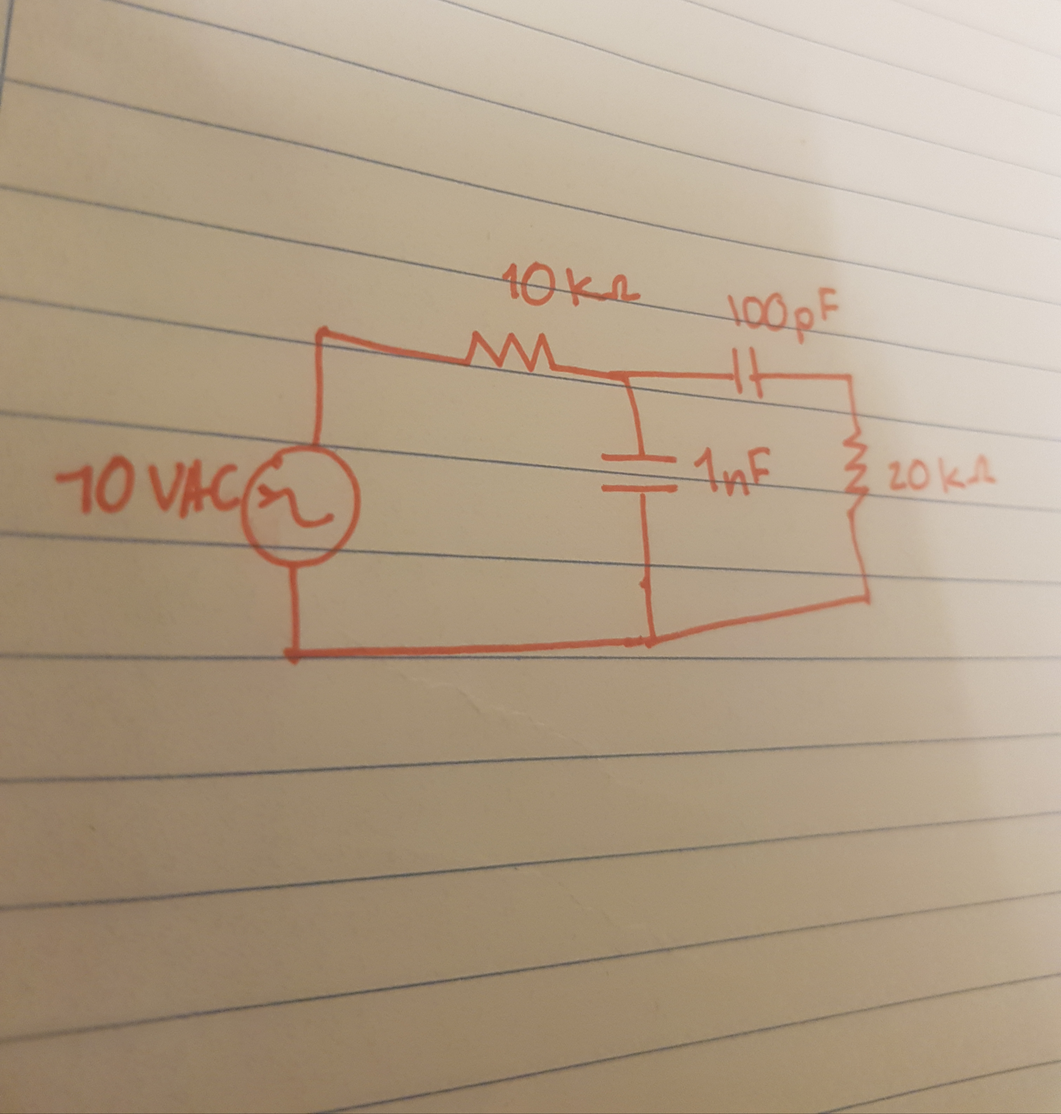capacitor.unpolarized: (590, 440, 688, 507), (722, 338, 776, 412)
junction: (305, 315, 347, 359), (276, 635, 312, 678), (846, 585, 886, 618), (610, 362, 647, 394), (639, 625, 664, 661), (835, 365, 865, 390)
resistor: (455, 327, 564, 377), (836, 430, 875, 514)
text: (49, 452, 245, 518), (492, 255, 646, 312), (726, 280, 848, 349), (880, 451, 1005, 502), (693, 441, 773, 501)
voltage.ac: (232, 443, 376, 575)
